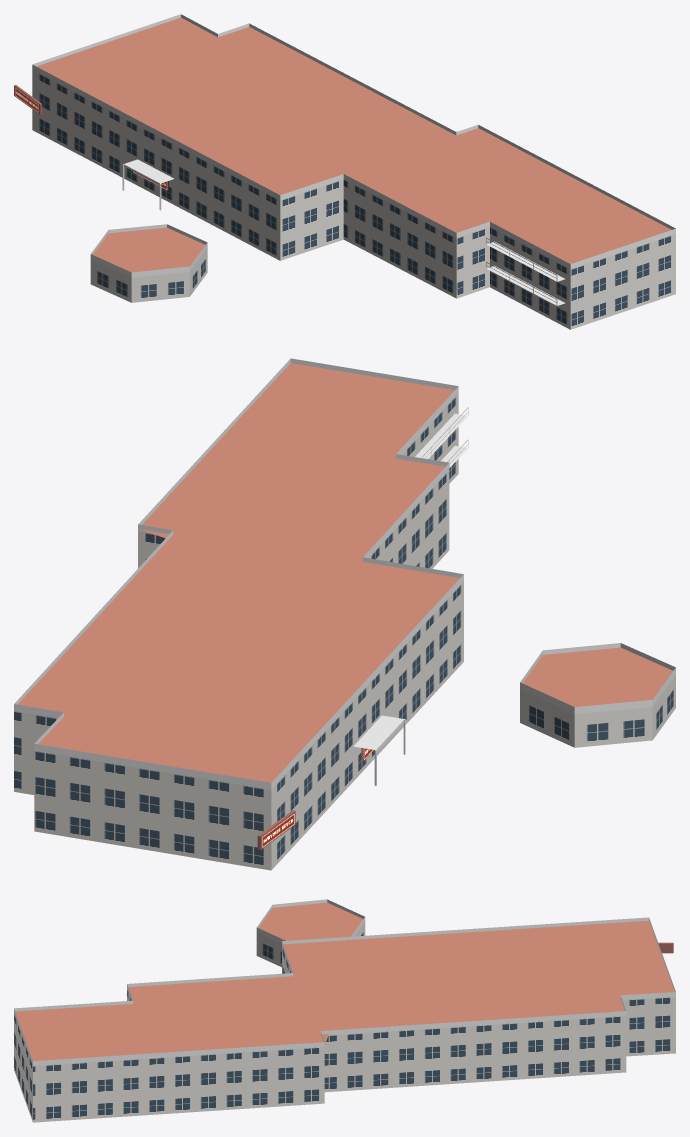
File: paradisebeach.glb
3 views of the same model, one above another, from view 1: azimuth 30°, elevation 25°; view 2: azimuth 150°, elevation 25°; view 3: azimuth 270°, elevation 25° (orthographic). The views are drawn at different scales.
Parts seen in each view (by area): view 1: paradisebeach_lod0; view 2: paradisebeach_lod0; view 3: paradisebeach_lod0.
Boxes of the visible parts, x1,y1,x2,y2 form: paradisebeach_lod0: (14,14,675,329); paradisebeach_lod0: (14,358,675,870); paradisebeach_lod0: (14,899,675,1122).
Size of what is drawn, in the model's own units: 58.5 by 8.68 by 83.7.
5 materials, 2 textured.
